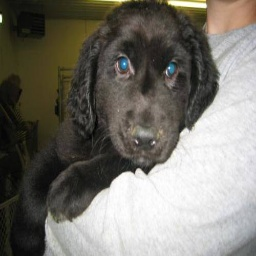dog: (12, 0, 219, 251)
